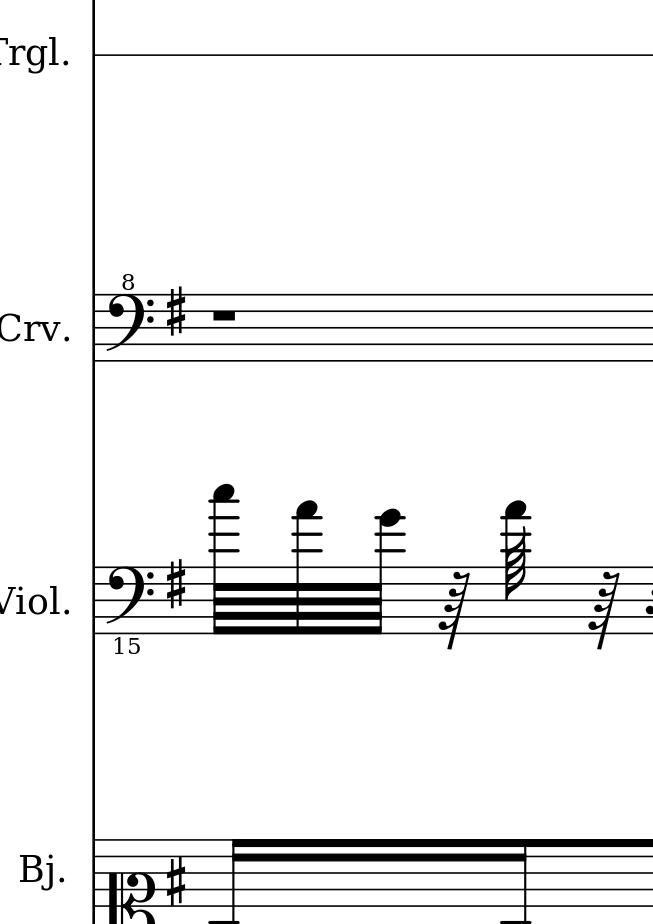64_14: (365, 506, 405, 639)
64_15: (292, 500, 323, 636)
64_17: (209, 484, 242, 636)
DLower_Fclef: (104, 563, 155, 659)
D_S: (163, 283, 189, 337)
High_Fclef: (103, 275, 155, 363)
Rests1: (208, 305, 240, 326)
Rests64: (588, 571, 622, 651), (437, 571, 471, 650)
Sharp: (163, 557, 188, 612), (164, 285, 189, 338), (164, 855, 187, 908)
Single_barline: (86, 839, 103, 910), (88, 293, 101, 362), (88, 568, 100, 634)
